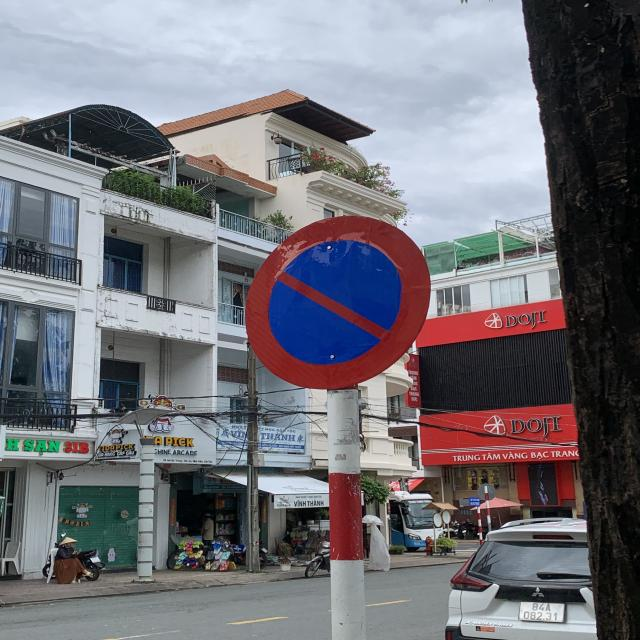Cam_Dau_Xe: (242, 212, 434, 390)
